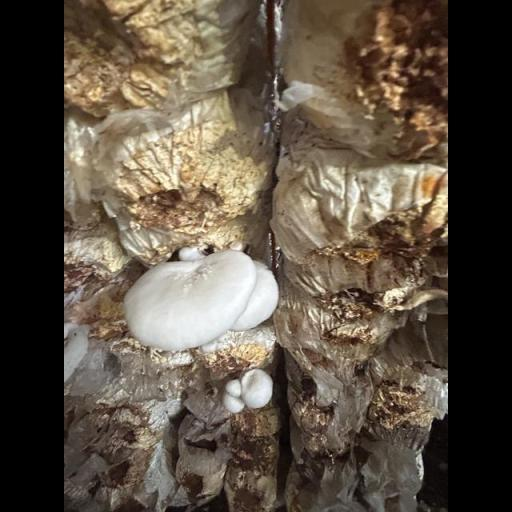White Oyster Mushroom: (123, 237, 281, 350), (223, 368, 273, 413)
